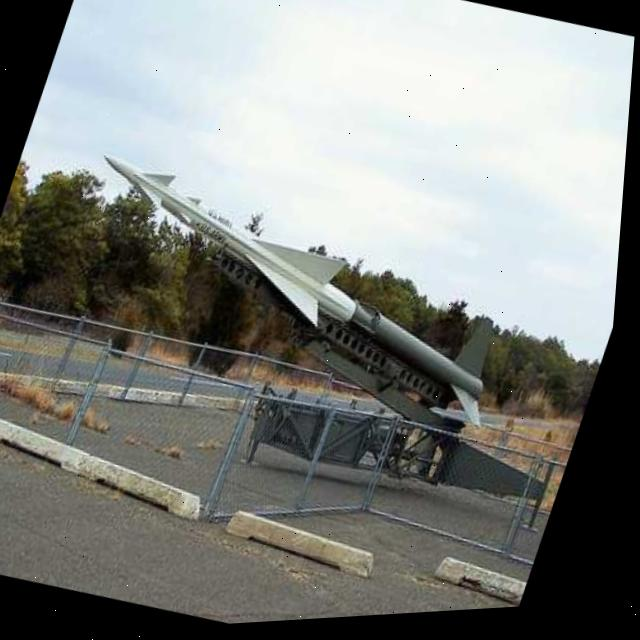missile: (62, 134, 398, 356)
